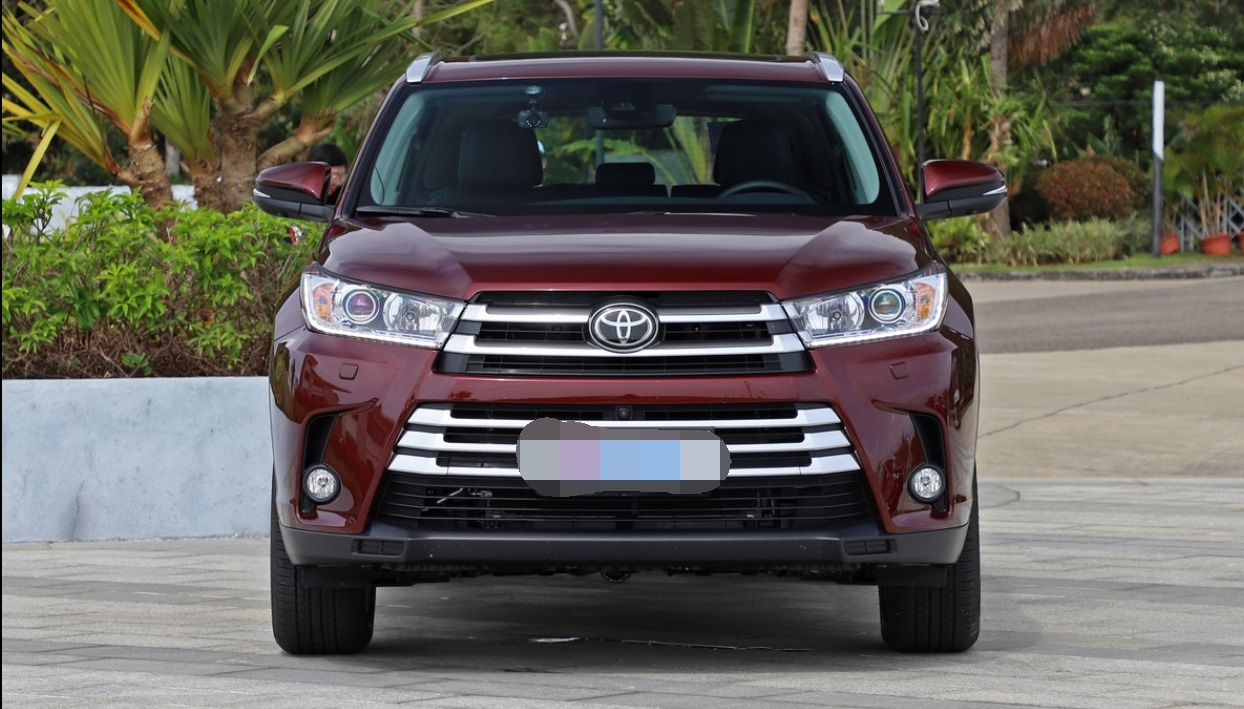SUV: (247, 49, 1003, 656)
